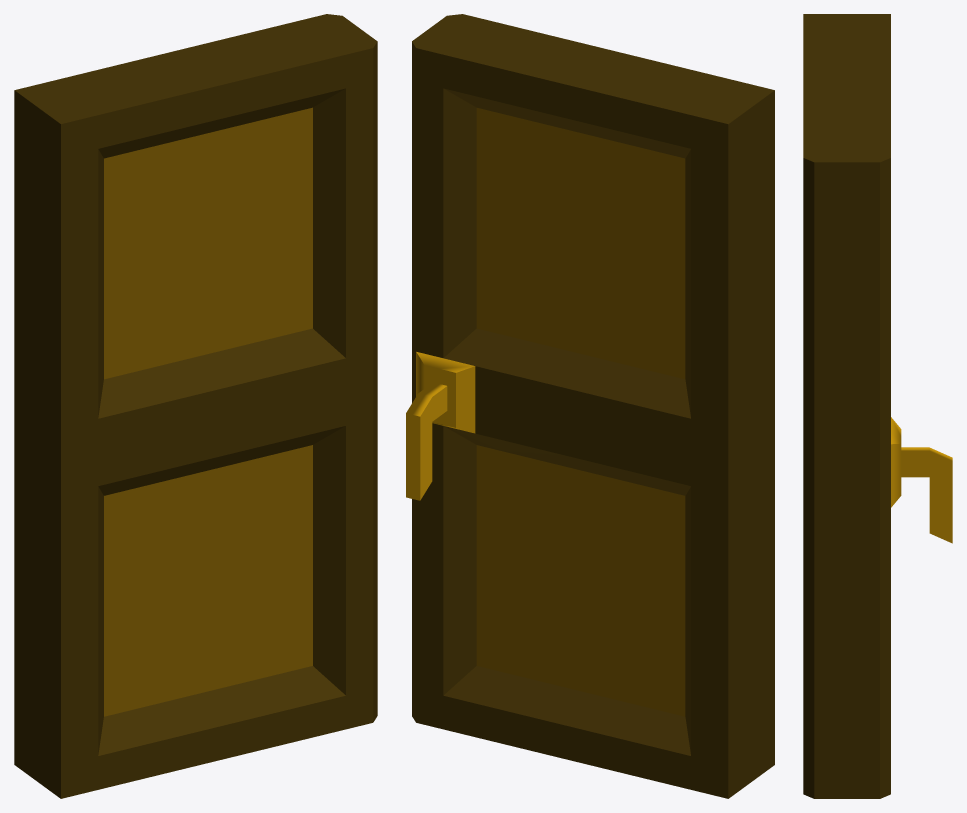
The model's file is Final_Animated_Door.fbx.
3 renders of one model, left to right at view 1: azimuth 30°, elevation 25°; view 2: azimuth 150°, elevation 25°; view 3: azimuth 270°, elevation 25°, orthographic. The views are drawn at different scales.
Parts seen in each view (by area): view 1: pCube2; view 2: pCube2; view 3: pCube2.
Part boxes in pixels (x1,y1,x2,y2): pCube2: (14,14,377,798); pCube2: (406,14,774,798); pCube2: (803,14,952,798).
Size of the model in its own units: 8 by 16 by 3.4.
